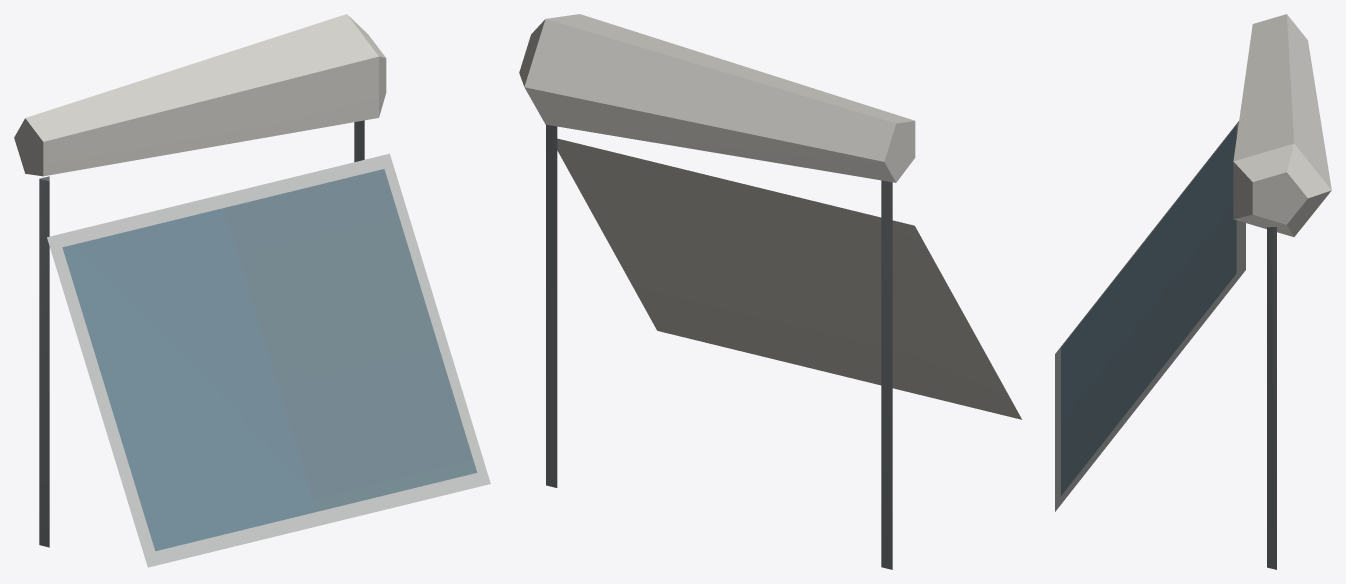
Rendered from solar.lod2.glb.
3 views of the same model, side by side, from view 1: azimuth 30°, elevation 25°; view 2: azimuth 150°, elevation 25°; view 3: azimuth 270°, elevation 25° (orthographic). The views are drawn at different scales.
Bounding box in the file's own units: 1.96 × 2.44 × 1.45.
